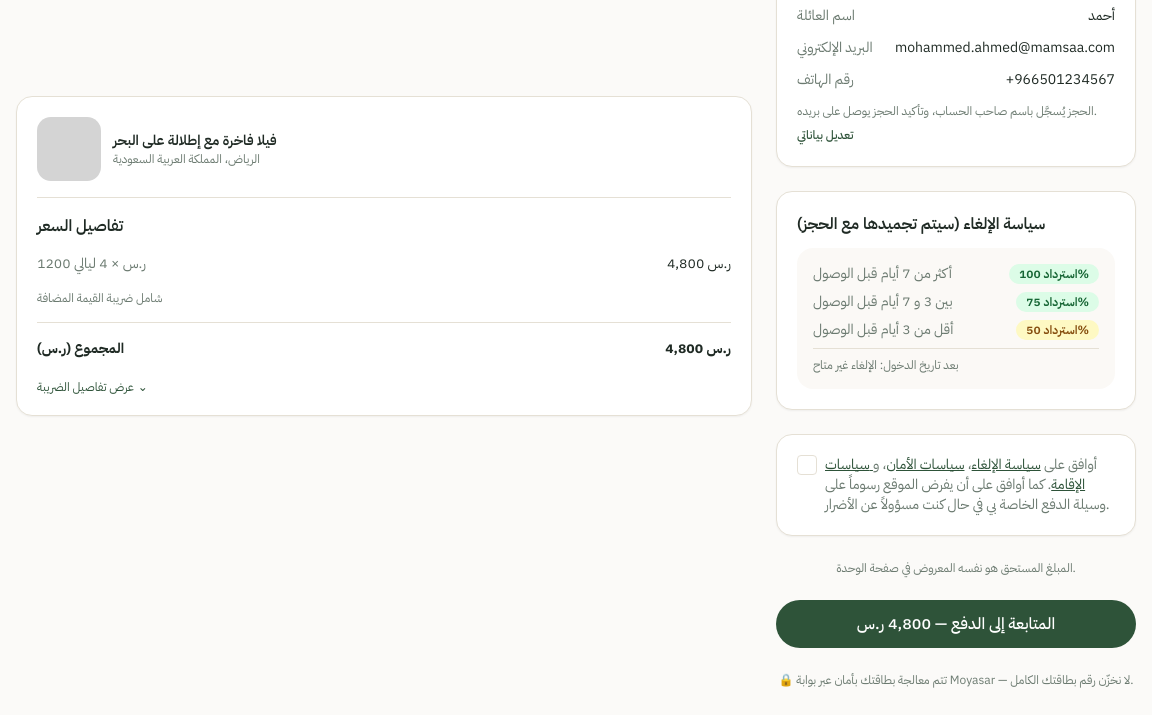
Test: Checkout — a 409 on the dates is an answer, not a failure › falls back to the server message on the booking step too — both steps word it the same way
(page scrolled)
Click the checkbox: (807, 464) [797,454,817,474]
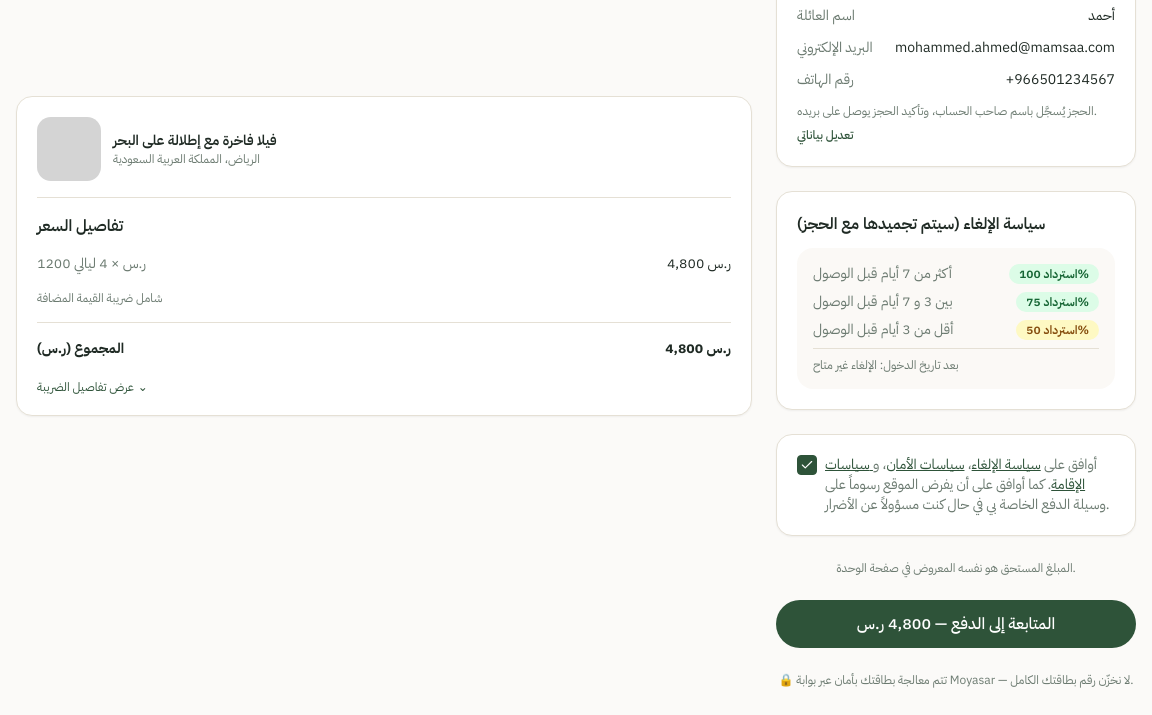
Click the button "المتابعة إلى الدفع — 4,800 ر.س": (956, 624) [776,600,1136,648]
Wait 350 ms
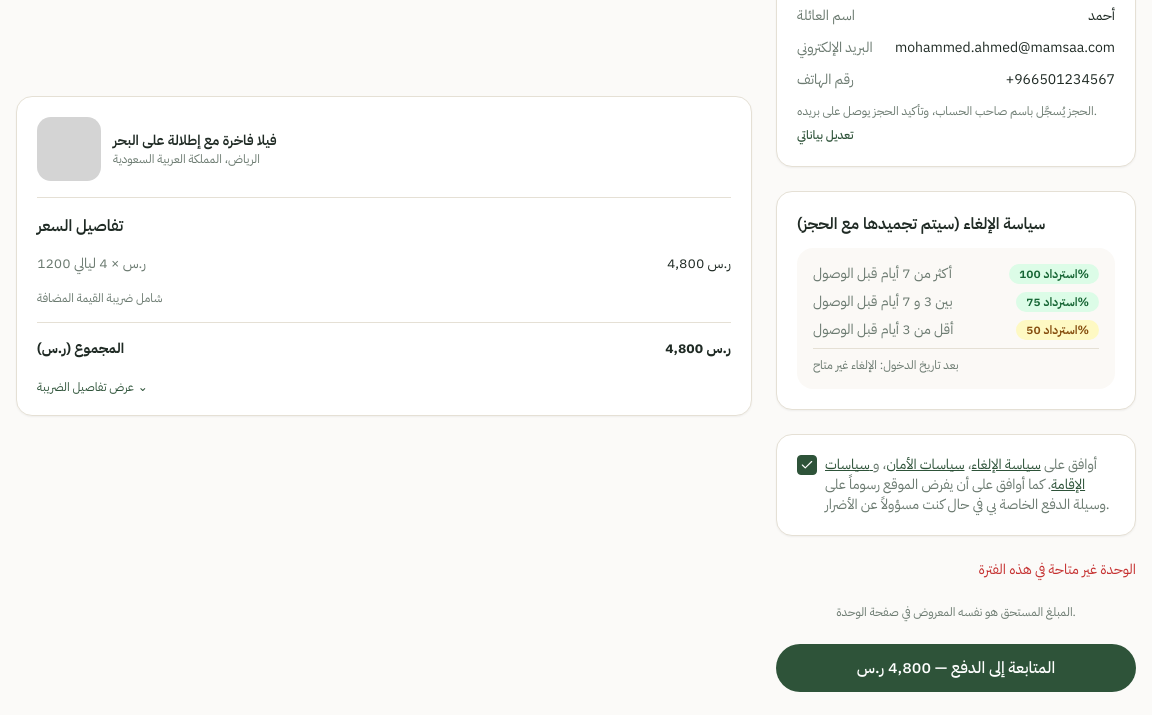
Now the text "الوحدة غير متاحة في هذه الفترة" is shown, box [978,558,1136,580]
